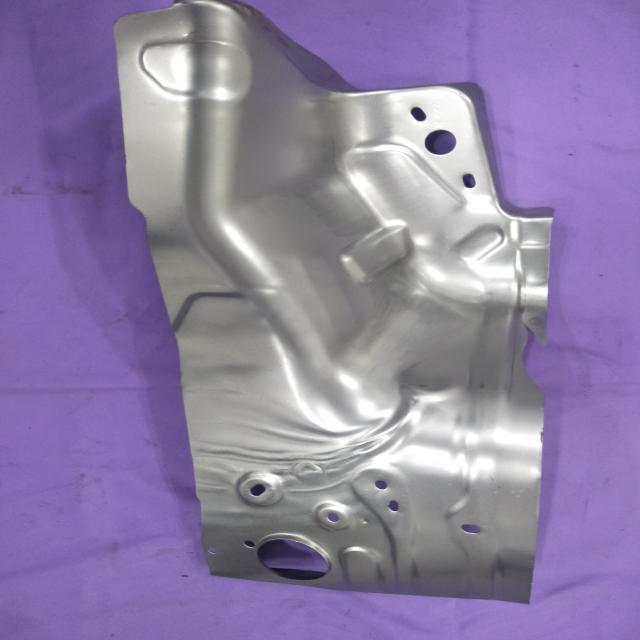Defect: (504, 302, 571, 416)
